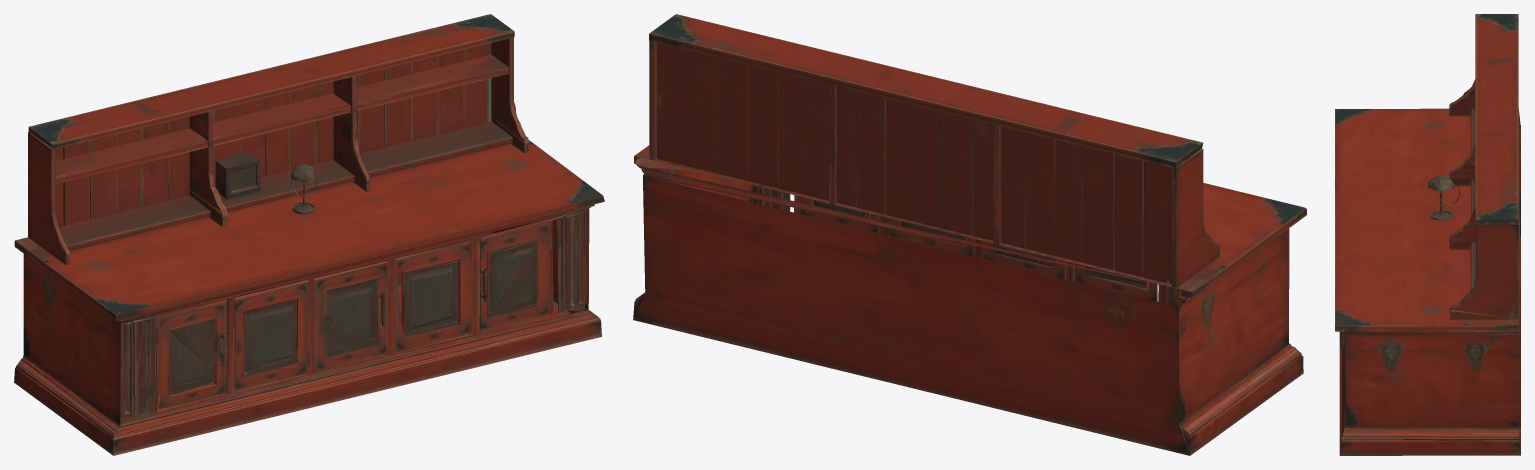
The model's file is display_counter.glb.
3 renders of one model, left to right at view 1: azimuth 30°, elevation 25°; view 2: azimuth 150°, elevation 25°; view 3: azimuth 270°, elevation 25°, orthographic. The views are drawn at different scales.
Bounding box in the file's own units: 1.8 × 0.8922 × 0.6507.
1 material, 1 textured.
